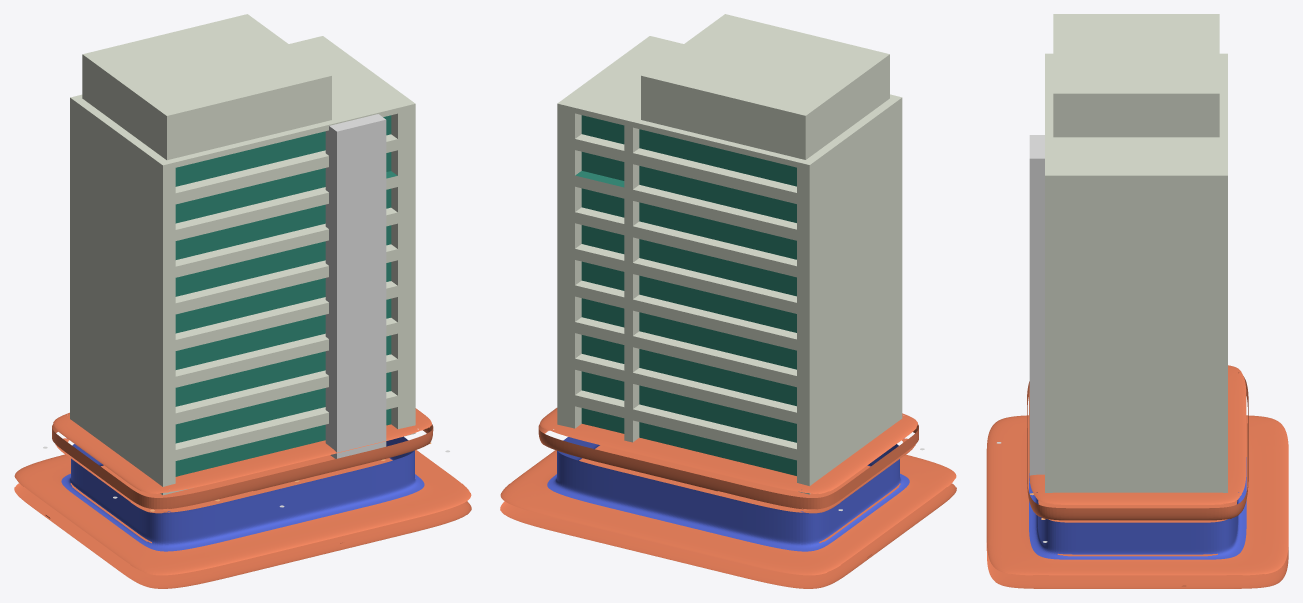
File: bindo.glb
3 renders of one model, left to right at view 1: azimuth 30°, elevation 25°; view 2: azimuth 150°, elevation 25°; view 3: azimuth 270°, elevation 25°, orthographic.
Visible parts, largest first — view 1: Cube.046; view 2: Cube.046; view 3: Cube.046.
Part boxes in pixels (left/top/right/bottom): Cube.046: left=14, top=14, right=471, bottom=588; Cube.046: left=500, top=14, right=956, bottom=588; Cube.046: left=986, top=14, right=1288, bottom=588.
Bounding box in the file's own units: 0.968 × 1.23 × 0.7669.
